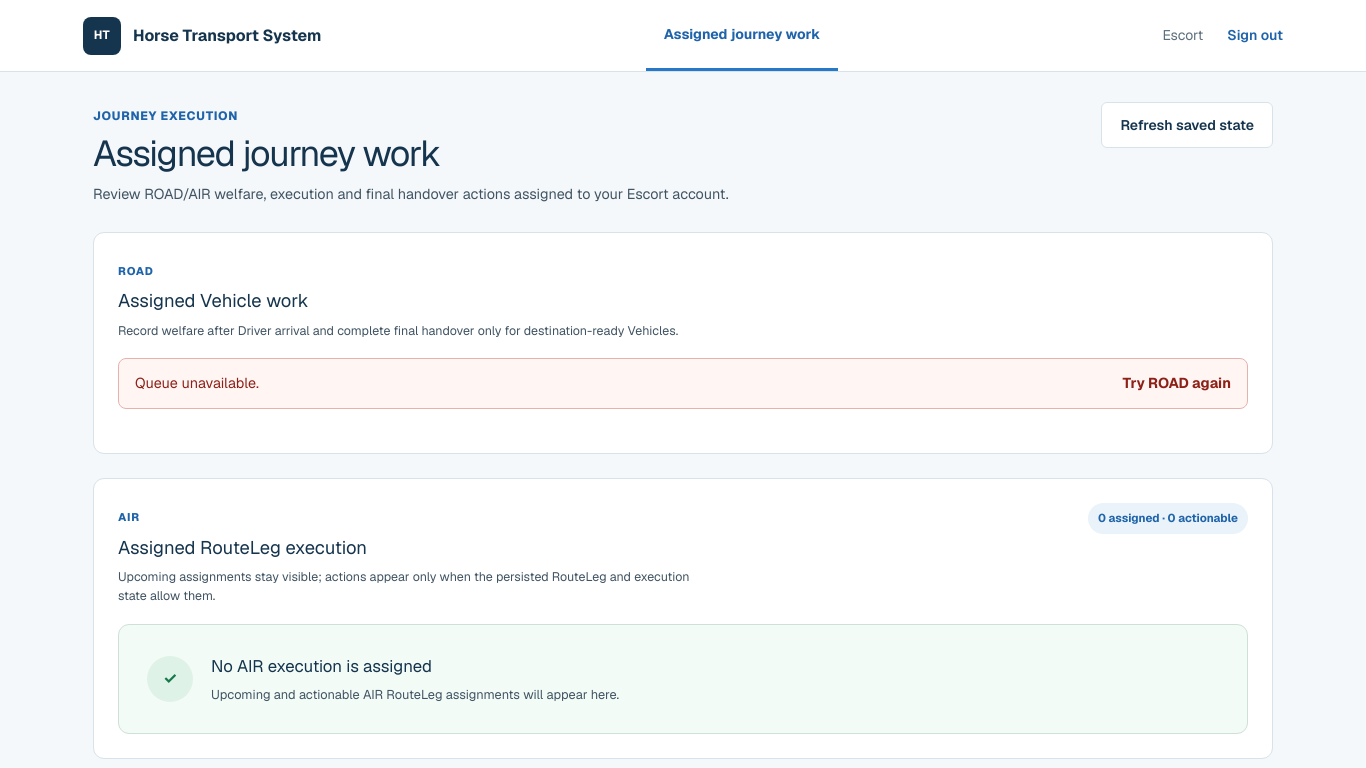
it: EscortQueuePage › retries a service error and renders the assigned Vehicle returned by the boundary
Check: the message shows "Queue unavailable.", box [135,374,259,392]
Click the button "Try ROAD again": (1177, 384) [1123,372,1231,395]
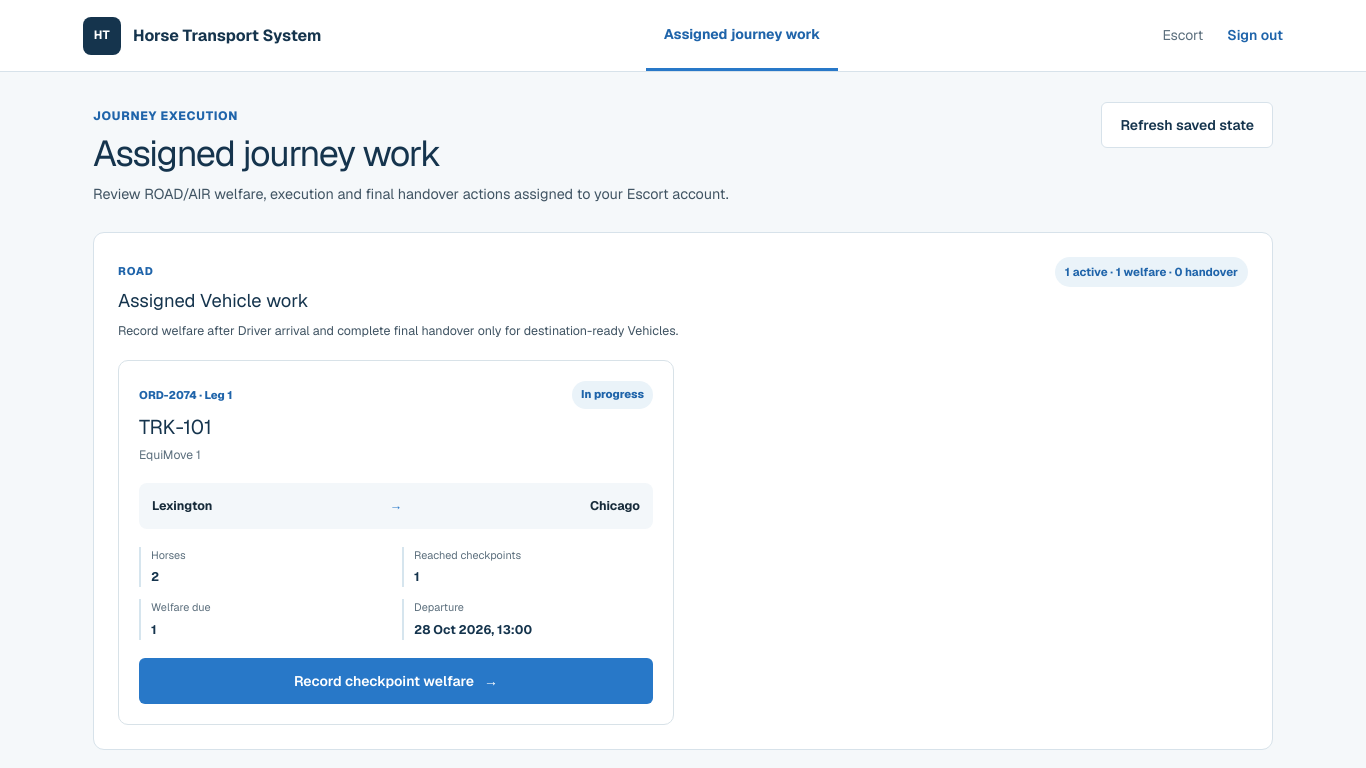
Check: the heading "TRK-101" is shown, box [139,414,212,440]
Check: the link "Record checkpoint welfare →" is shown, box [139,658,653,704]
